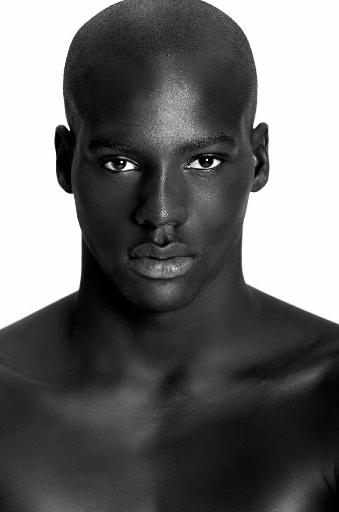left_eye: (183, 150, 234, 176)
left_lip_corner: (188, 247, 204, 269)
right_eye: (95, 154, 148, 176)
right_lip_corner: (121, 248, 139, 268)
